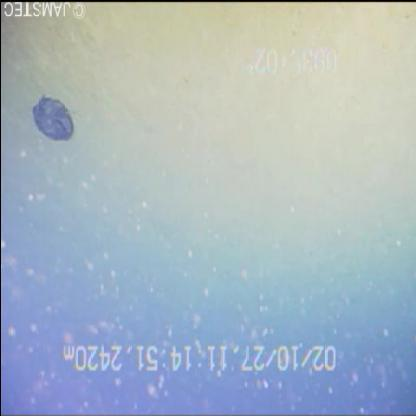Rác: (16, 76, 88, 157)
